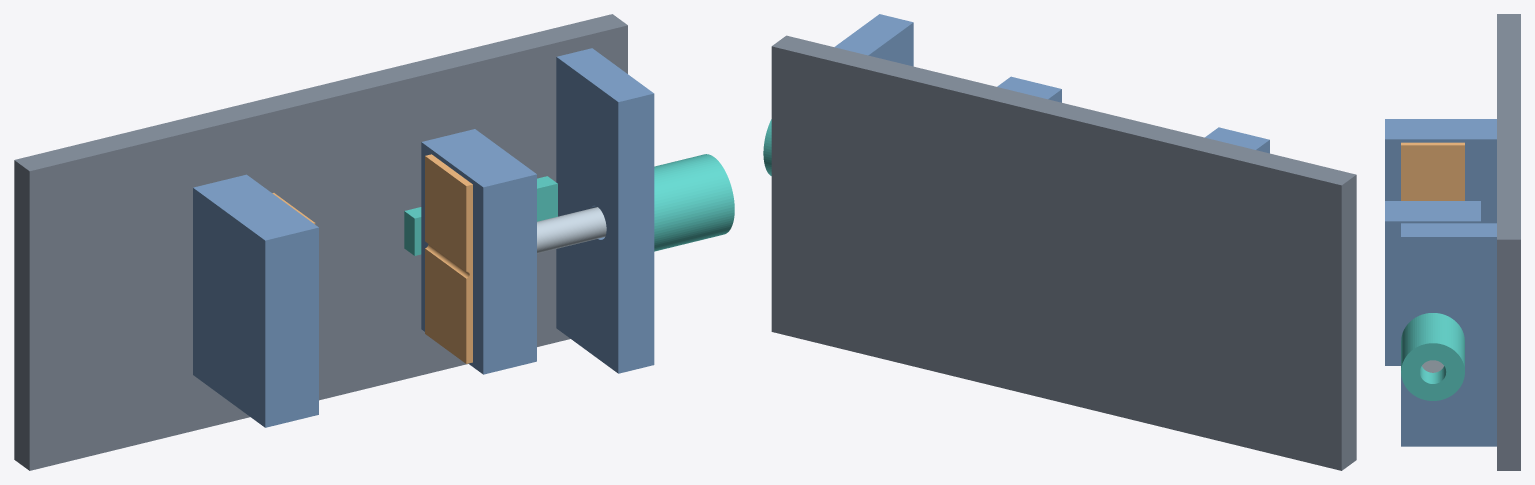
Rendered from assembly.glb.
3 renders of one model, left to right at view 1: azimuth 30°, elevation 25°; view 2: azimuth 150°, elevation 25°; view 3: azimuth 270°, elevation 25°, orthographic. The views are drawn at different scales.
Visible parts, largest first — view 1: base, actuator_support, fixed_jaw, moving_jaw, moving_pad, actuator_body, rod, rail_central; view 2: base, actuator_support, fixed_jaw, moving_jaw; view 3: actuator_support, base, fixed_jaw, actuator_body, moving_jaw, fixed_pad, rod.
Part boxes in pixels (x1=…): base: x1=14, y1=14, x2=627, y2=470; actuator_support: x1=556, y1=48, x2=654, y2=373; fixed_jaw: x1=193, y1=174, x2=318, y2=427; moving_jaw: x1=421, y1=129, x2=536, y2=374; moving_pad: x1=425, y1=154, x2=472, y2=363; actuator_body: x1=654, y1=154, x2=734, y2=251; rod: x1=537, y1=207, x2=606, y2=253; rail_central: x1=404, y1=176, x2=557, y2=255; base: x1=771, y1=35, x2=1356, y2=470; actuator_support: x1=834, y1=14, x2=913, y2=66; fixed_jaw: x1=1205, y1=127, x2=1269, y2=153; moving_jaw: x1=997, y1=76, x2=1061, y2=102; actuator_support: x1=1401, y1=223, x2=1496, y2=446; base: x1=1497, y1=14, x2=1520, y2=470; fixed_jaw: x1=1385, y1=119, x2=1496, y2=223; actuator_body: x1=1401, y1=313, x2=1464, y2=400; moving_jaw: x1=1385, y1=201, x2=1480, y2=365; fixed_pad: x1=1401, y1=142, x2=1464, y2=200; rod: x1=1422, y1=360, x2=1443, y2=372.
Bounding box in the file's own units: 0.1244 × 0.0554 × 0.0294.
